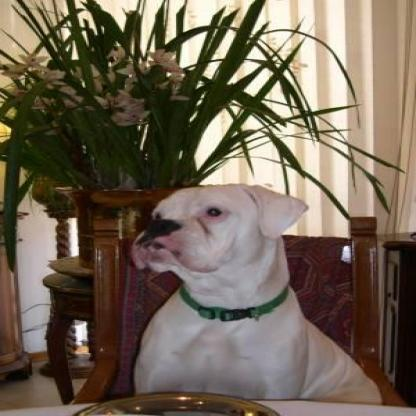boxer: (125, 179, 384, 407)
